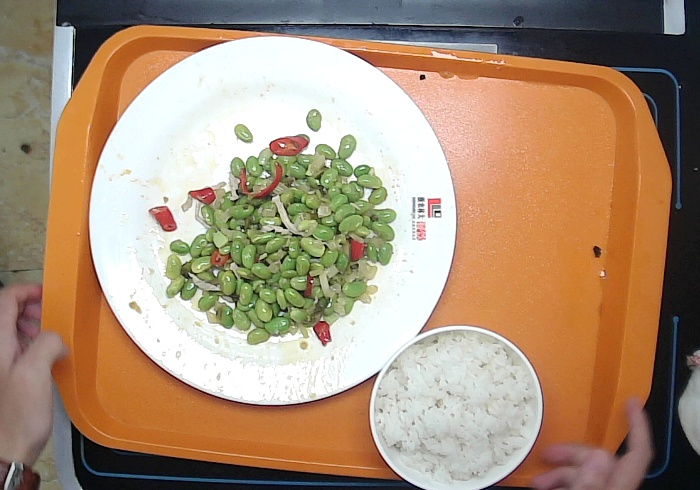ZNLD-Da_Yuan_Pan: (83, 33, 458, 411)
ZNLD-Fan_Wan: (367, 322, 543, 490)
